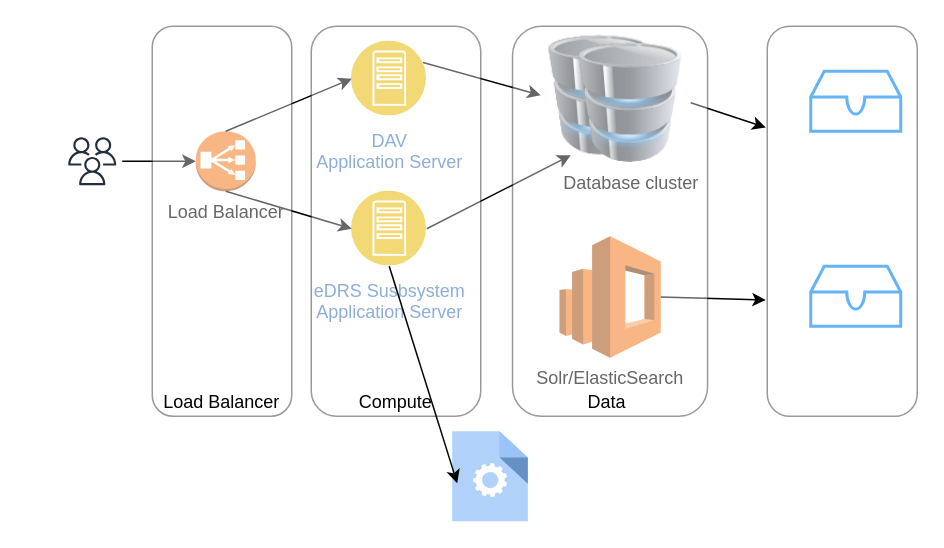
This 944x548 diagram has some shape labels left out. Here are the shapes that lost their labels. From the top down, the box of each, then its label:
(61, 130, 122, 191): Concurrent User Requests
(766, 25, 917, 416): Storage 100+TB
(452, 430, 527, 520): SDWP System
